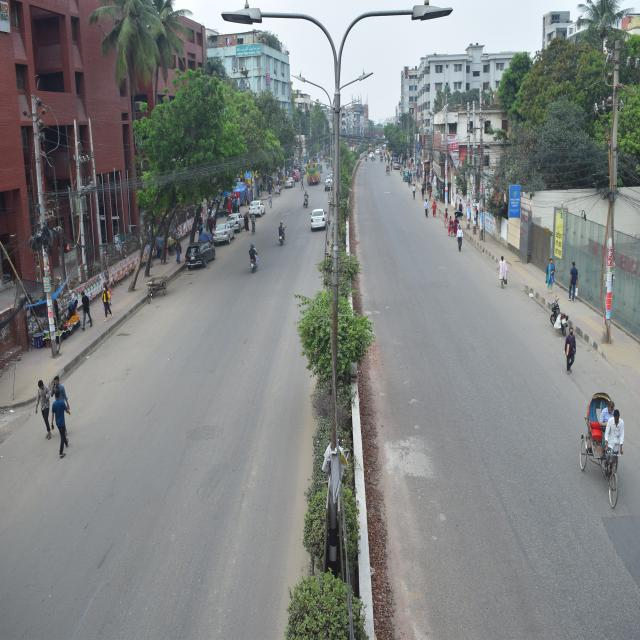car: (184, 238, 220, 272), (310, 202, 328, 240), (227, 199, 244, 238), (210, 223, 228, 258), (246, 189, 264, 221), (281, 173, 297, 190)
motorbike: (535, 293, 582, 338), (249, 236, 264, 282), (278, 217, 294, 250), (302, 187, 312, 207)
